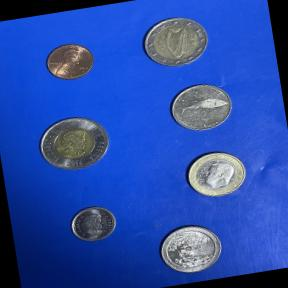coin: (28, 107, 118, 182), (132, 7, 218, 75), (151, 216, 231, 281), (162, 75, 240, 138), (176, 143, 254, 206), (39, 36, 100, 88), (62, 199, 124, 249)
